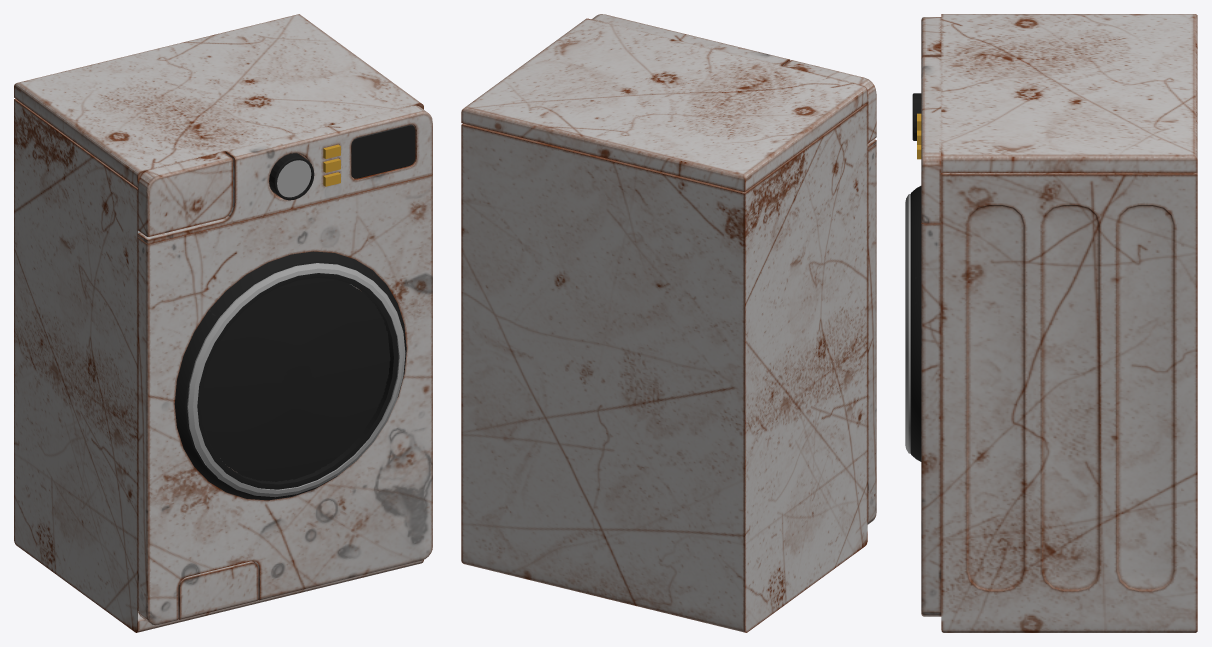
Rendered from washing_machine.fbx.
3 views of the same model, side by side, from view 1: azimuth 30°, elevation 25°; view 2: azimuth 150°, elevation 25°; view 3: azimuth 270°, elevation 25° (orthographic). The views are drawn at different scales.
Visible parts, largest first — view 1: lavatrice; view 2: lavatrice; view 3: lavatrice.
Boxes of the visible parts, <box> form: lavatrice: <box>14,14,432,632</box>; lavatrice: <box>461,14,876,632</box>; lavatrice: <box>905,14,1197,632</box>.
Bounding box in the file's own units: 200 × 309 × 171.
